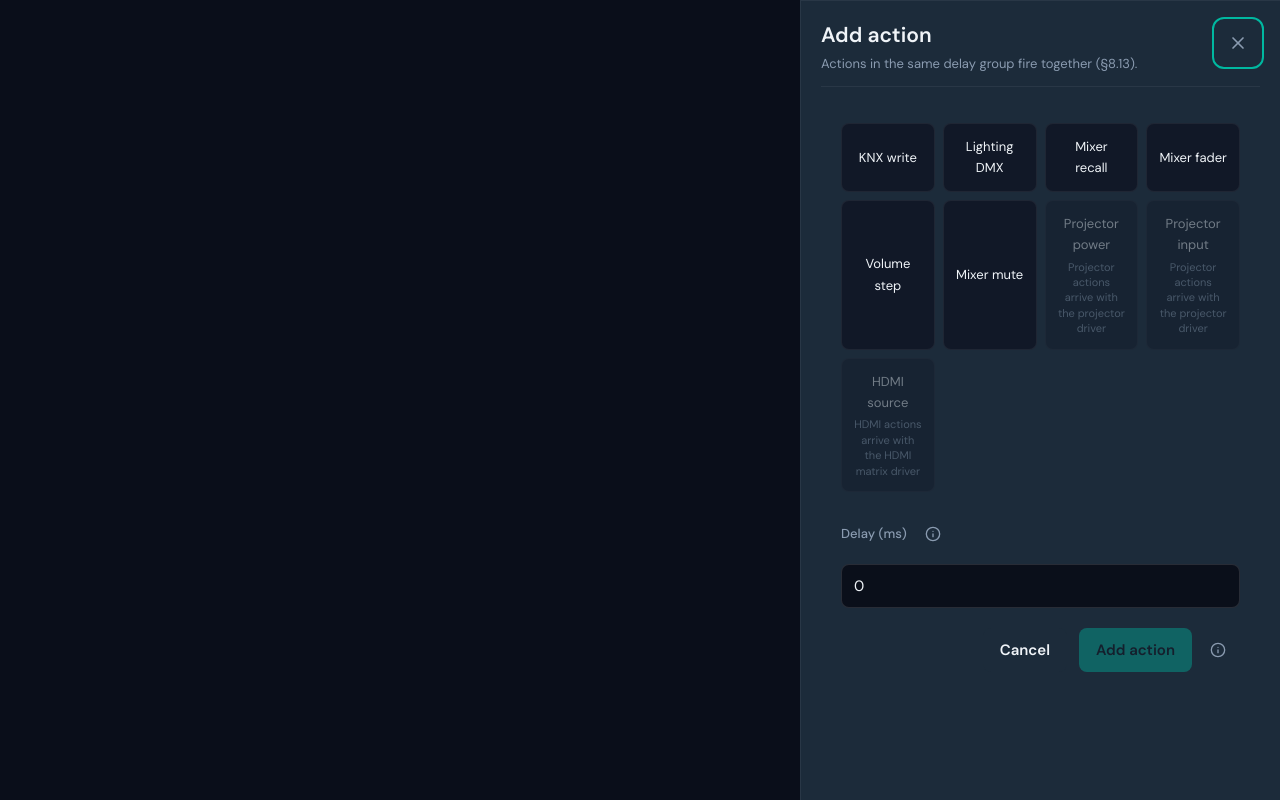
Test: ActionEditorSheet › the mixer recall form shows the desk-scene picker disabled with a reason when recall is unsupported
Click the button "Mixer recall". click: (1091, 157)
box: [1044,123,1138,192]
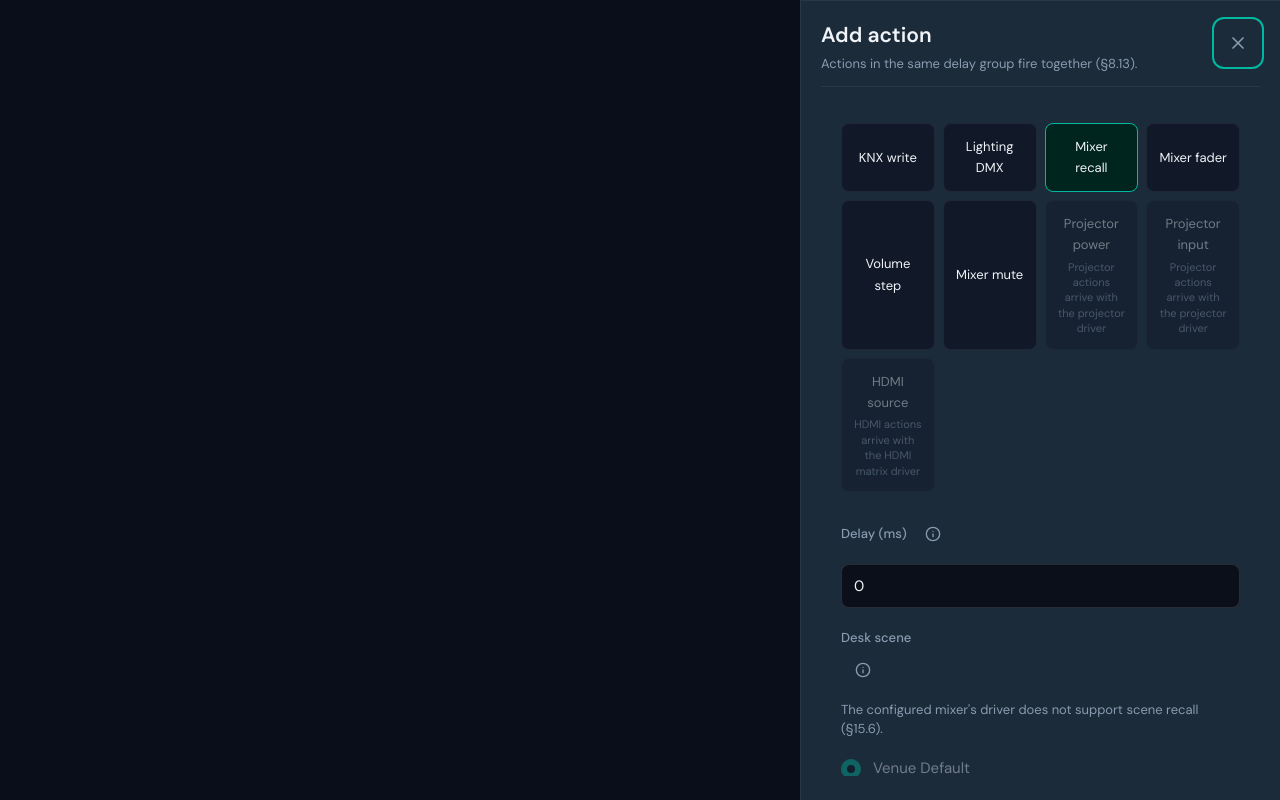
Check: the radio button labelled "Venue Default" is disabled, box [841,758,970,776]
Check: the text "does not support scene recall" is shown, box [841,700,1198,737]
